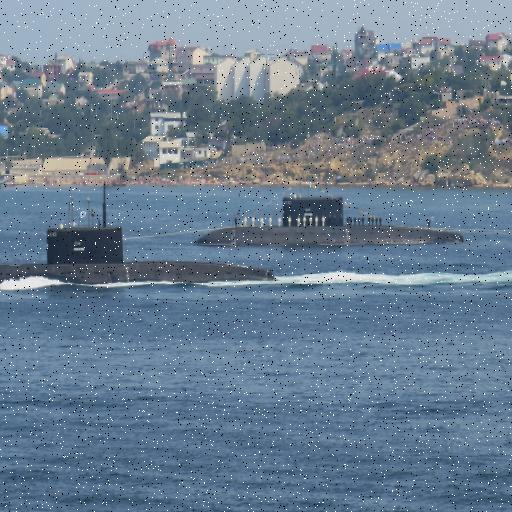submarine: (1, 177, 277, 292), (191, 191, 475, 246)
